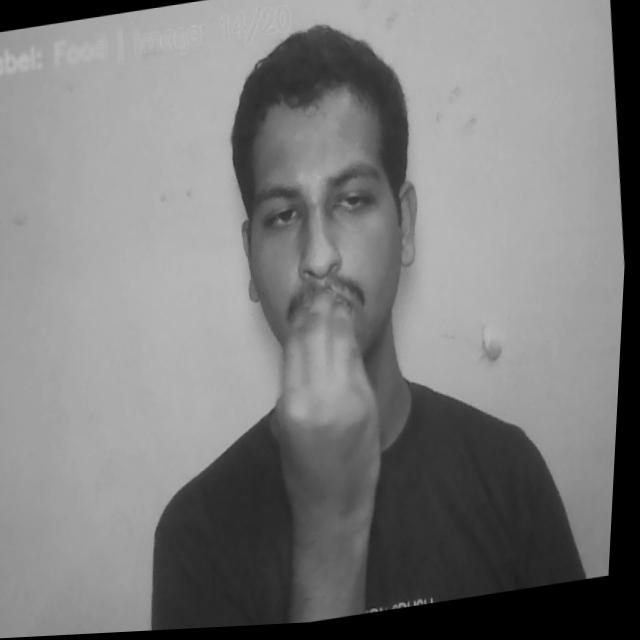Food: (246, 281, 409, 579)
